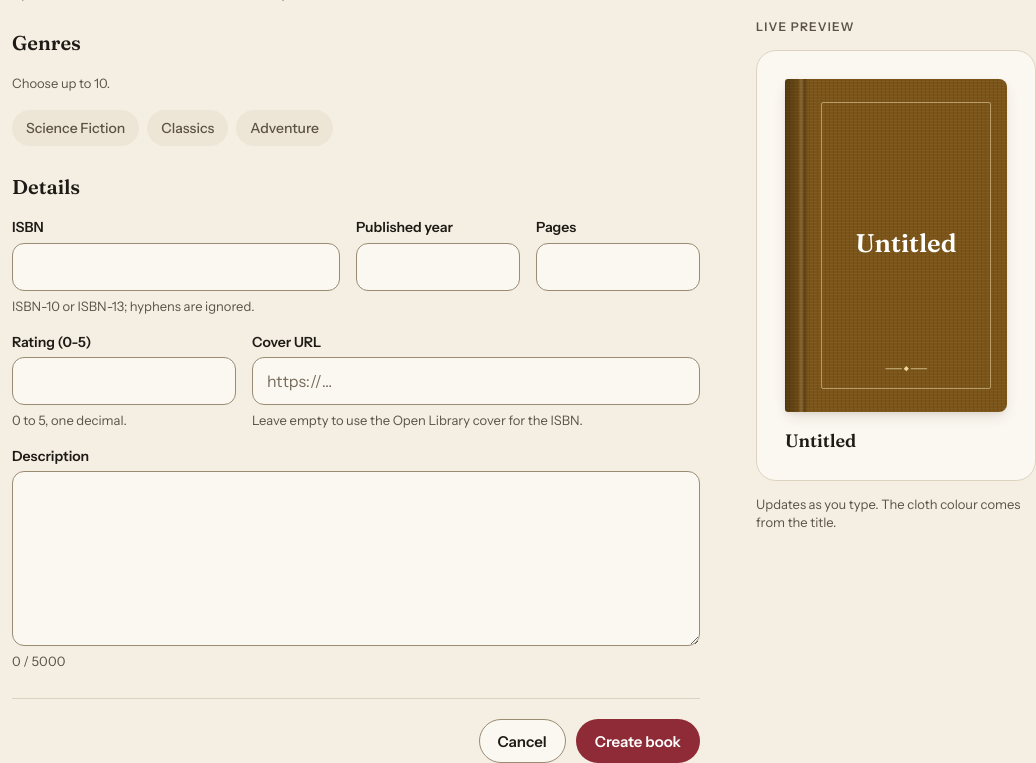
Scenario: BookFormPage (create) › blocks submit and shows errors for a missing title and author
This screenshot has width=1036, height=763.
(page scrolled)
Click the button "Create book": (638, 741) [576,719,700,762]
(page scrolled)
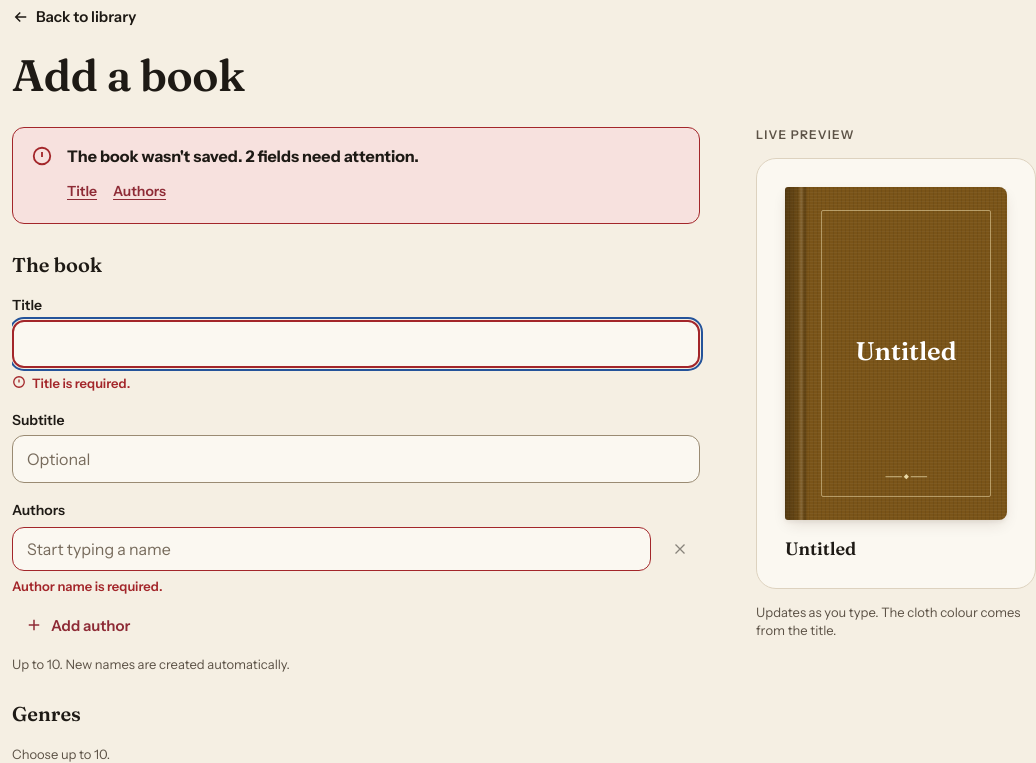
Now the text "Title is required." is shown, box [12,375,130,391]
Now the text "Author name is required." is shown, box [12,578,162,594]
